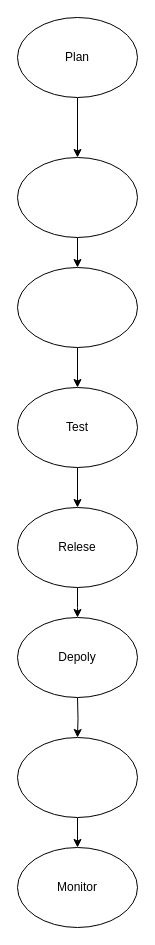
This 155x945 diagram has some shape labels left out. The shapes that lost their labels are listed below. From the top down, each one's centre as x and y in pixels, then its label:
pixel 77 197: Develop
pixel 77 307: Bulid
pixel 77 777: Operate
